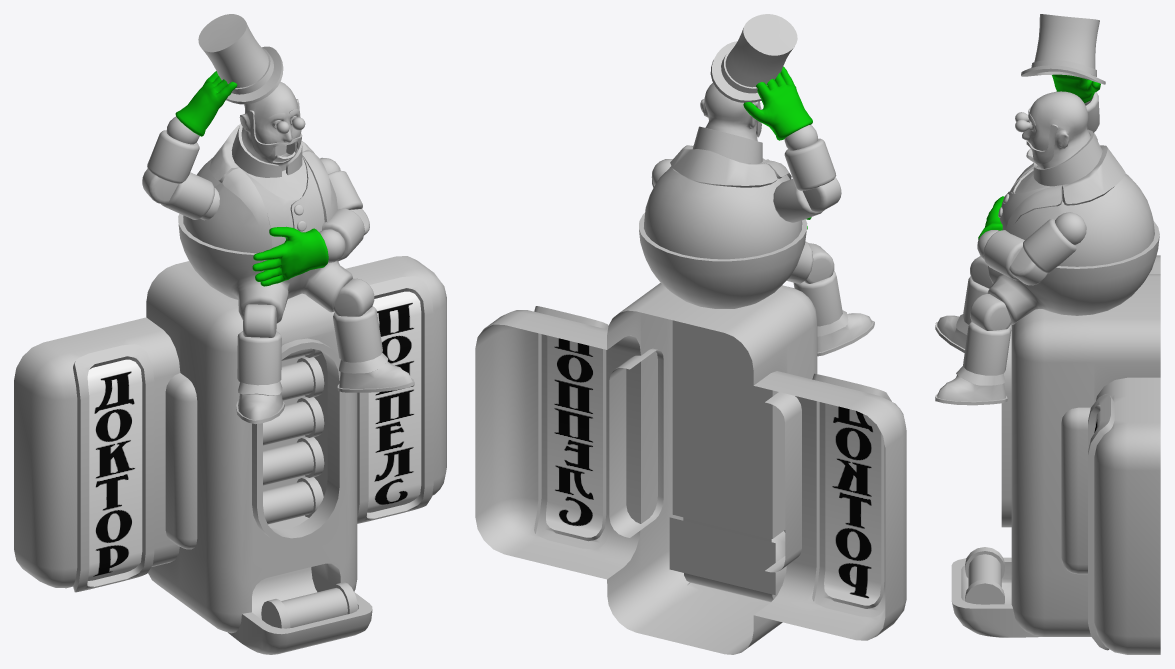
File: 3Dmodel_Prop_VendingMachine_Mana.fbx
The picture shows the model from 3 angles, left to right: view 1: azimuth 30°, elevation 25°; view 2: azimuth 150°, elevation 25°; view 3: azimuth 270°, elevation 25°; orthographic projection. The views are drawn at different scales.
Parts seen in each view (by area): view 1: Prop_VendingMachine_Mana; view 2: Prop_VendingMachine_Mana; view 3: Prop_VendingMachine_Mana.
Boxes of the visible parts, x1,y1,x2,y2 form: Prop_VendingMachine_Mana: [14, 14, 446, 654]; Prop_VendingMachine_Mana: [475, 14, 906, 654]; Prop_VendingMachine_Mana: [935, 14, 1160, 654].
Bounding box in the file's own units: 140 × 195 × 68.03.
